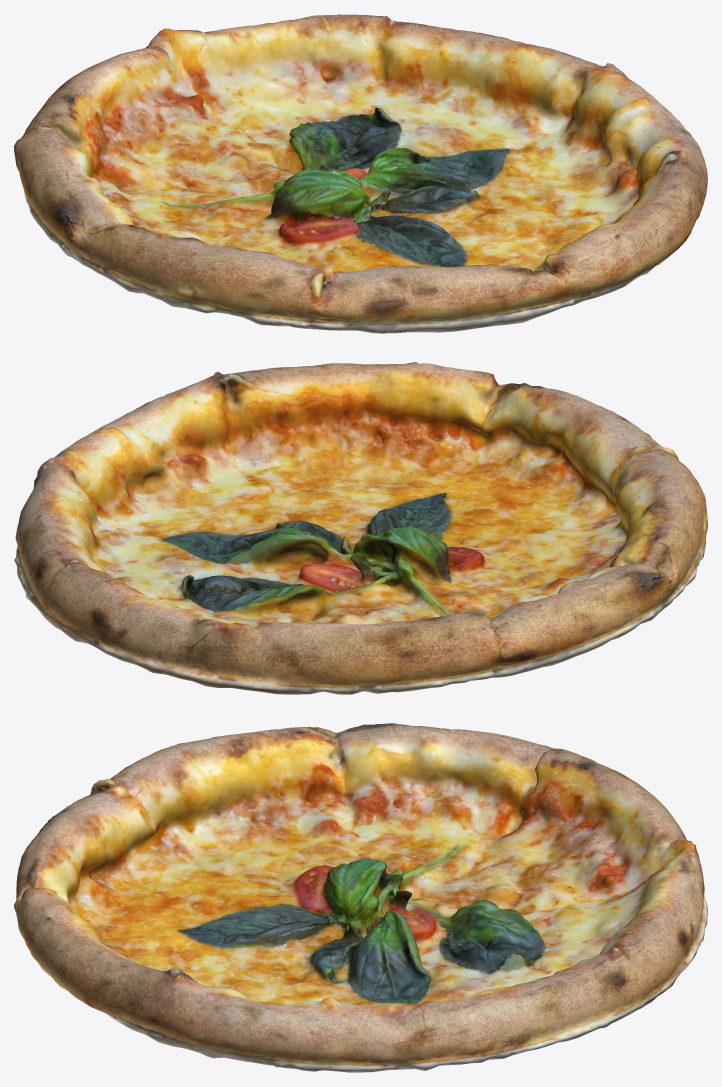
The model's file is Marguerite 1.glb.
3 renders of one model, top to bottom at view 1: azimuth 30°, elevation 25°; view 2: azimuth 150°, elevation 25°; view 3: azimuth 270°, elevation 25°, orthographic.
Parts seen in each view (by area): view 1: ObjectCapture; view 2: ObjectCapture; view 3: ObjectCapture.
Boxes of the visible parts, <box> form: ObjectCapture: <box>14,14,707,333</box>; ObjectCapture: <box>14,362,707,694</box>; ObjectCapture: <box>14,723,707,1072</box>.
Bounding box in the file's own units: 0.2793 × 0.0378 × 0.2779.
1 material, 1 textured.
